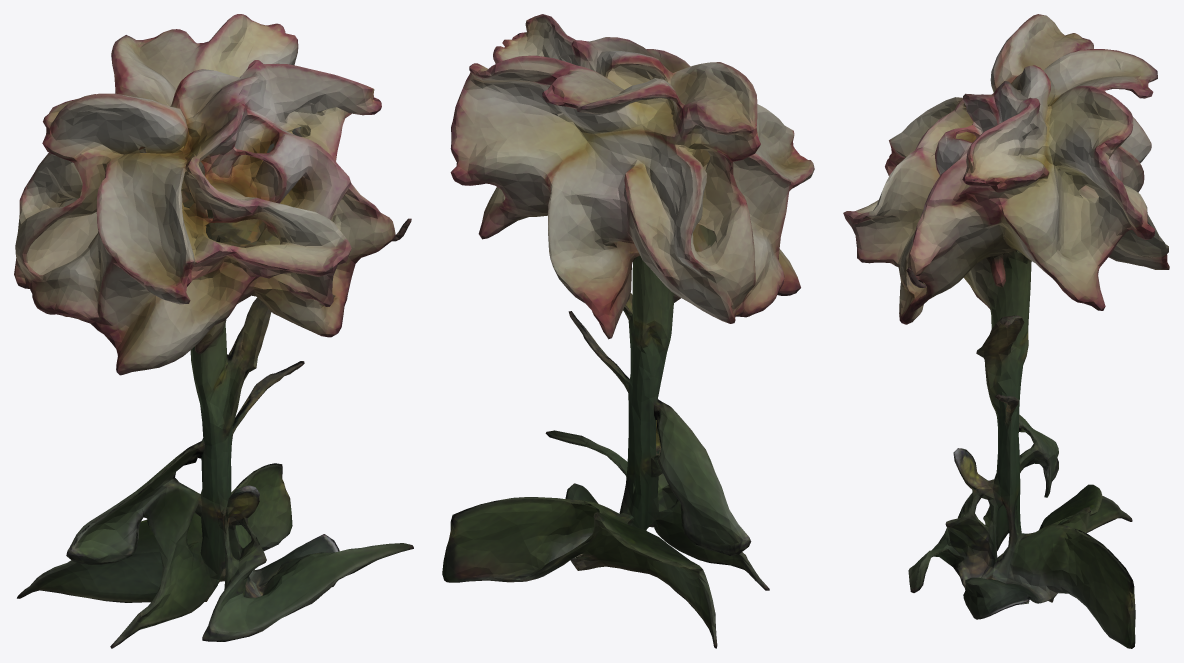
The picture shows the model from 3 angles, left to right: view 1: azimuth 30°, elevation 25°; view 2: azimuth 150°, elevation 25°; view 3: azimuth 270°, elevation 25°; orthographic projection. The views are drawn at different scales.
Visible parts, largest first — view 1: world; view 2: world; view 3: world.
Boxes of the visible parts, x1=… form: world: x1=14, y1=14, x2=413, y2=648; world: x1=442, y1=14, x2=814, y2=648; world: x1=843, y1=14, x2=1169, y2=648.
Size of the model in its own units: 0.5561 by 0.9497 by 0.5384.
Materials: 1 (1 with a texture image).
